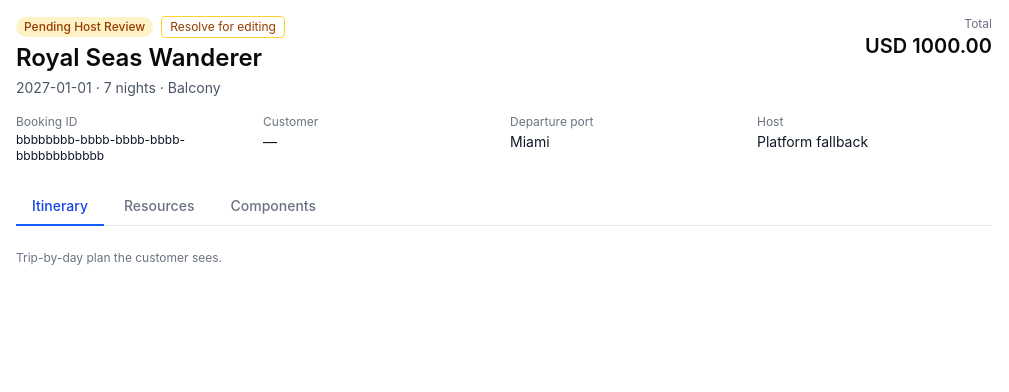
BookingDetailPage — resolve pending_host_review (#1810) › shows the refusal message and keeps status unchanged on a 409 host_booking_may_exist
Click the button "Resolve for editing". click: (223, 27)
box: [161,16,285,38]
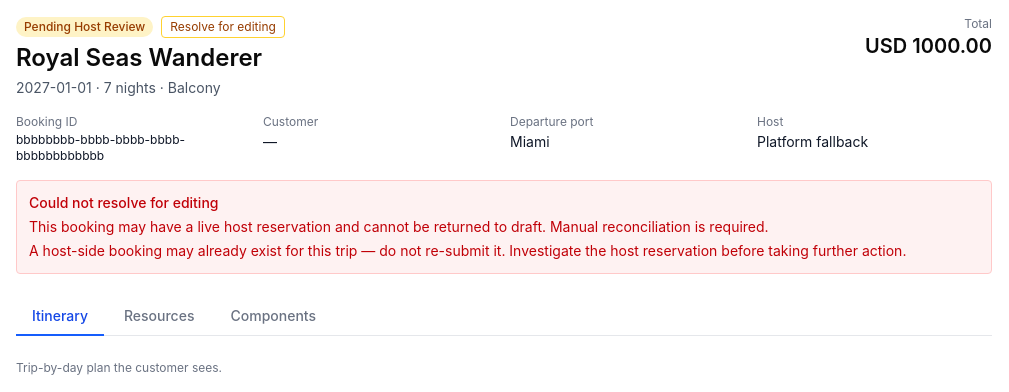
Expected: the text "pending host review" is shown, [16,17,153,37]
Expected: the text "Manual reconciliation is required" is shown, [29,218,769,235]
Expected: the text "do not re-submit it" is shown, [29,242,906,259]
